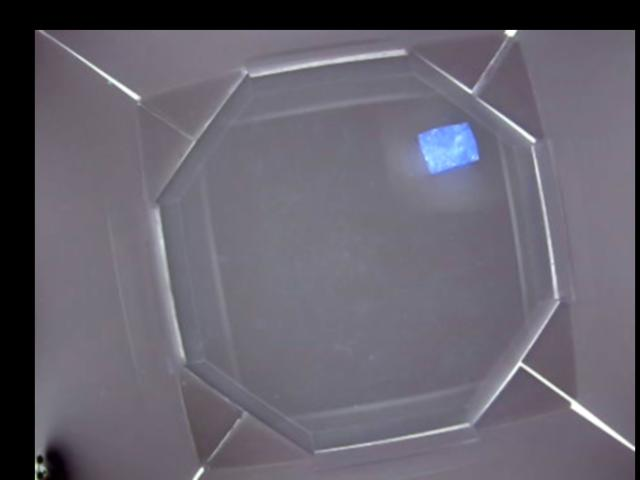Potato: (416, 119, 480, 172)
